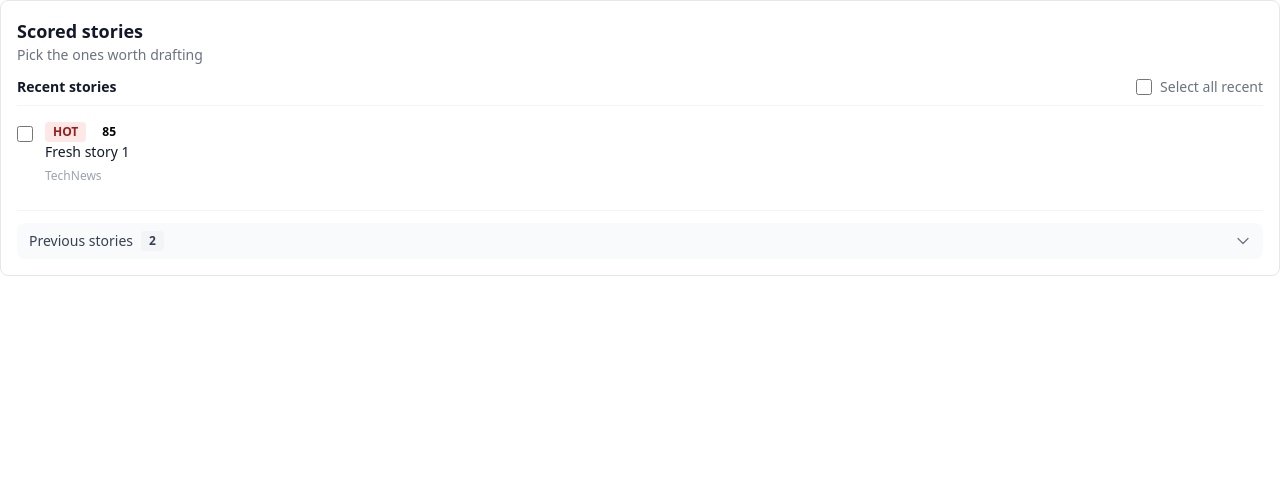
Test case: ScoredCandidates › expands previous stories when accordion is clicked and collapses on next click
Expected: the text "Previous story 1" is not shown
Click the button "Previous stories 2" at (81, 240), box left=17, top=223, right=1263, bottom=259
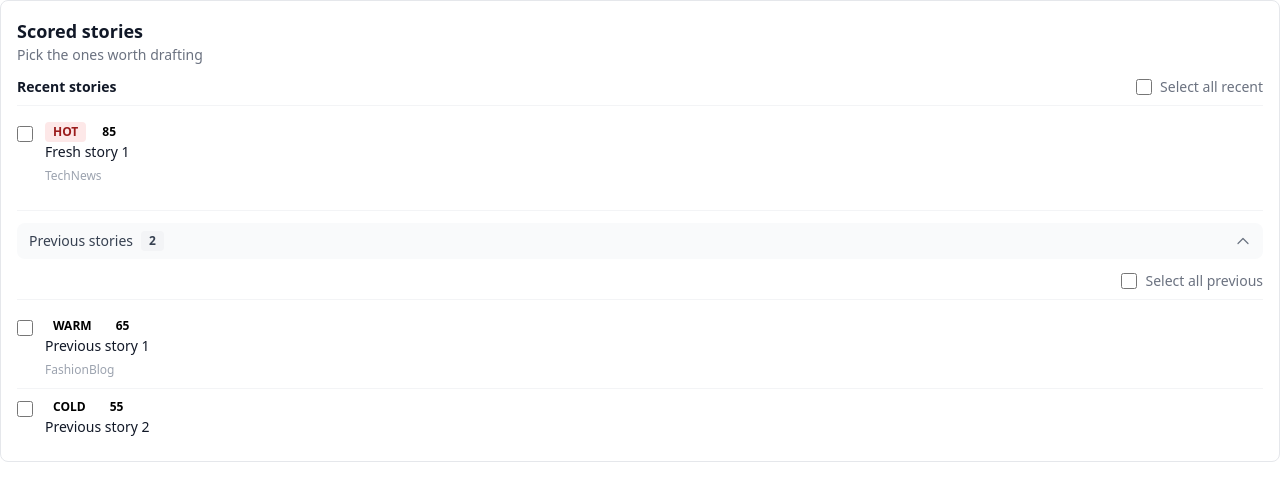
Expected: the link "Previous story 1" is shown, left=45, top=336, right=150, bottom=355
Expected: the link "Previous story 2" is shown, left=45, top=417, right=150, bottom=436
Click the button "Previous stories 2" at (81, 240), box left=17, top=223, right=1263, bottom=259
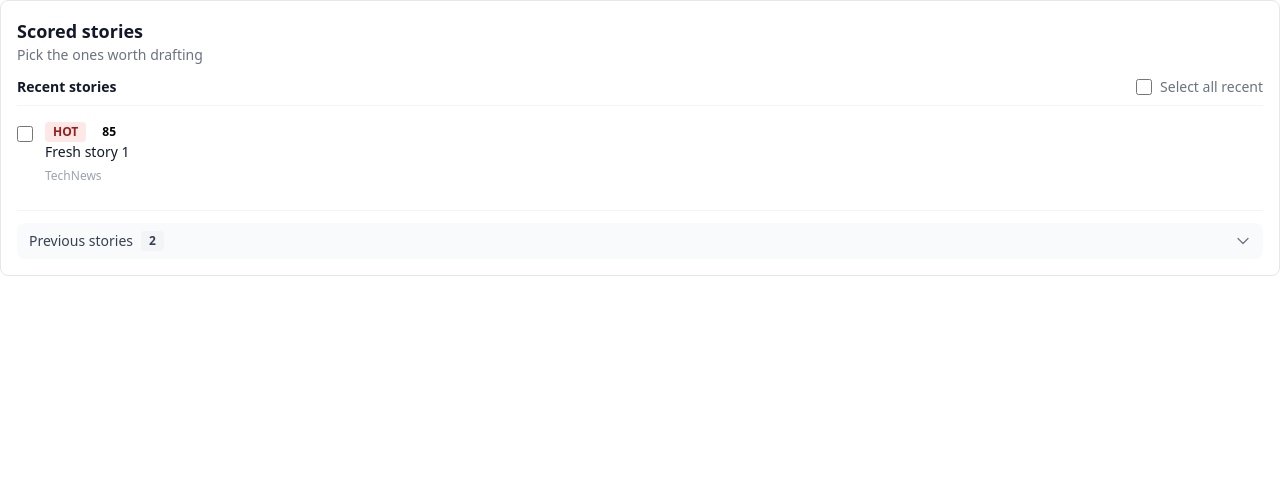
Expected: the link "Previous story 1" is gone
